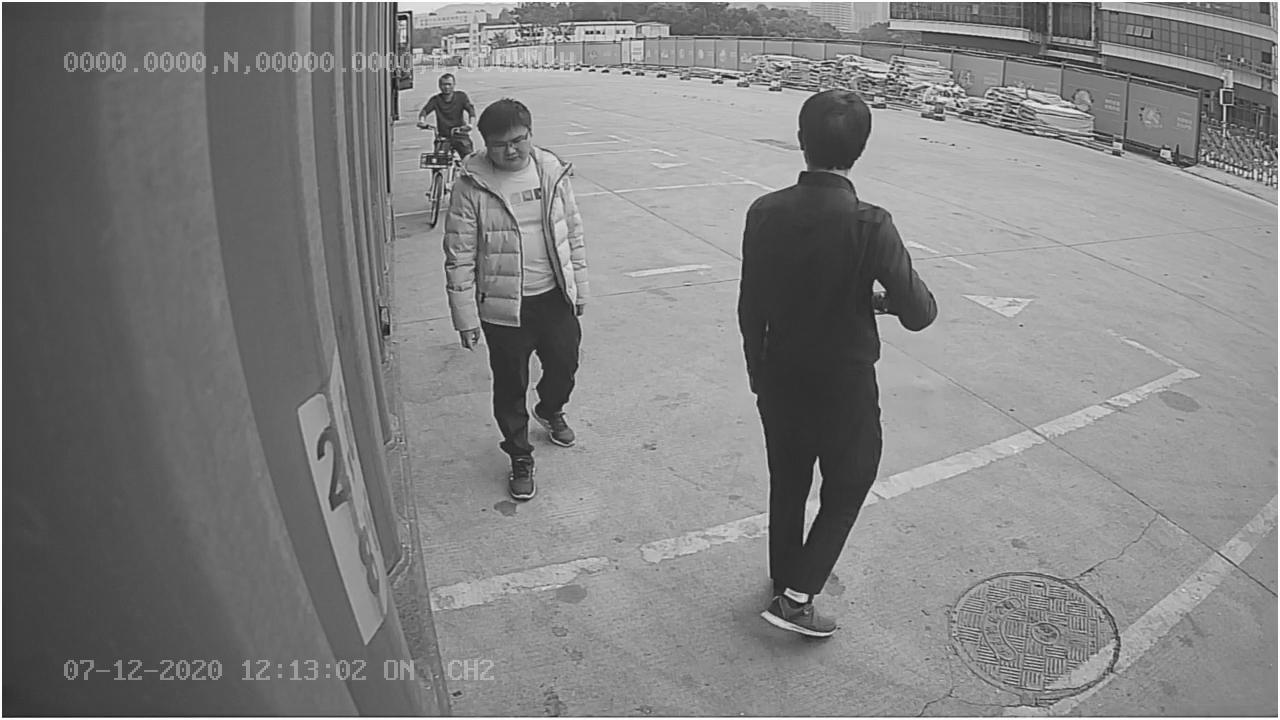person: (735, 78, 941, 643), (443, 92, 615, 521)
